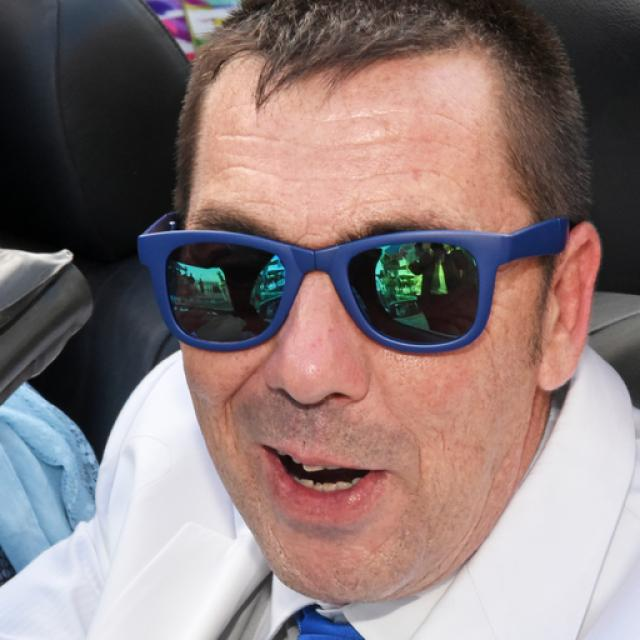Wrinkle: (211, 157, 481, 199), (211, 125, 477, 157), (322, 105, 486, 141)
